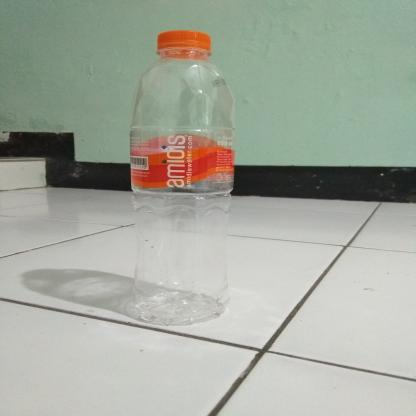bottle: (123, 26, 237, 330)
